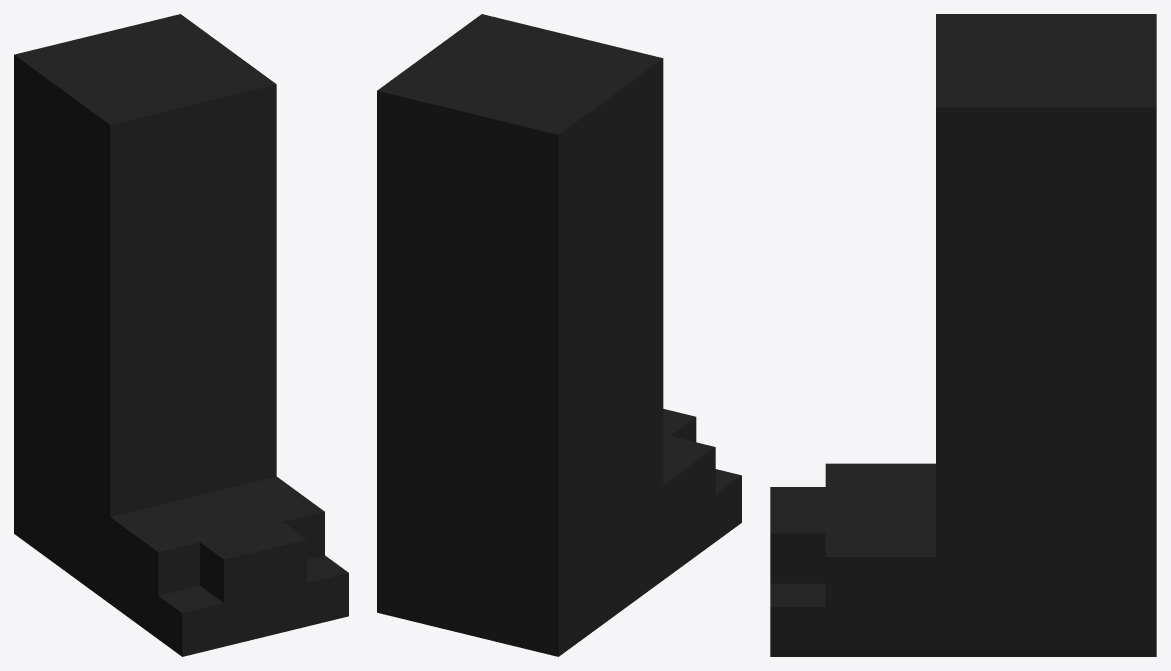
Rendered from General-0.obj.
3 views of the same model, side by side, from view 1: azimuth 30°, elevation 25°; view 2: azimuth 150°, elevation 25°; view 3: azimuth 270°, elevation 25° (orthographic). The views are drawn at different scales.
Bounding box in the file's own units: 0.4 × 1.1 × 0.7.
1 material, 1 textured.
